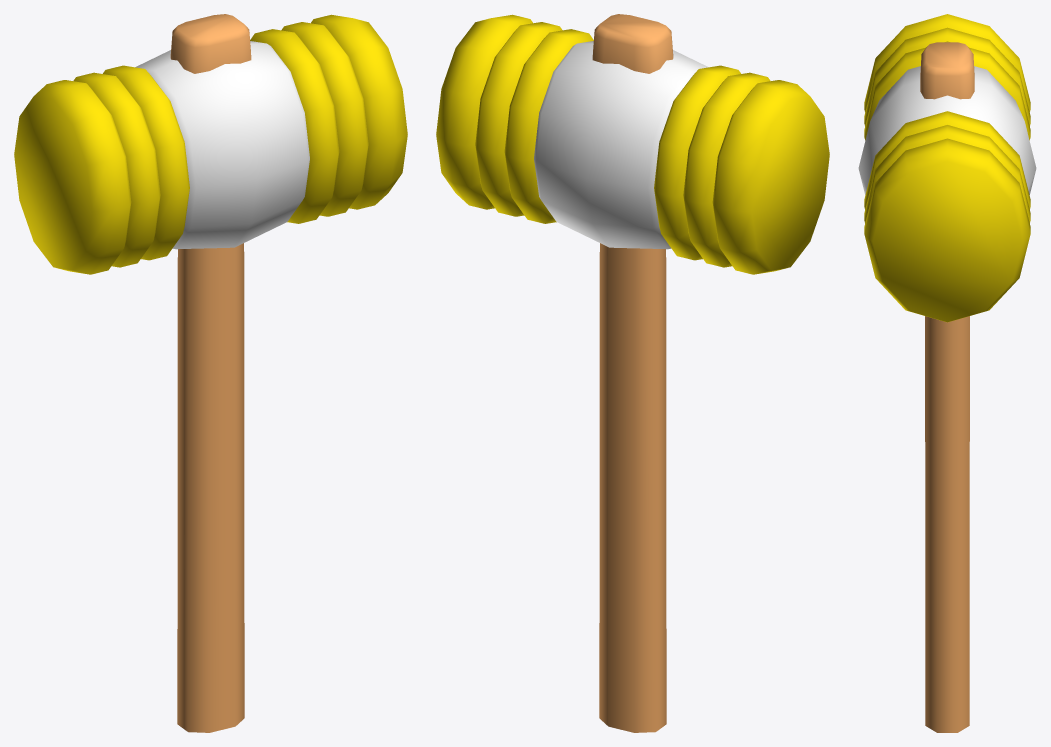
The model's file is diff_6.fbx.
3 views of the same model, side by side, from view 1: azimuth 30°, elevation 25°; view 2: azimuth 150°, elevation 25°; view 3: azimuth 270°, elevation 25° (orthographic). The views are drawn at different scales.
Parts seen in each view (by area): view 1: Cube.005; view 2: Cube.005; view 3: Cube.005.
Boxes of the visible parts, left/top/right/bottom form: Cube.005: left=14, top=14, right=407, bottom=732; Cube.005: left=436, top=14, right=829, bottom=732; Cube.005: left=858, top=14, right=1036, bottom=732.
Bounding box in the file's own units: 492 × 1035 × 251.
